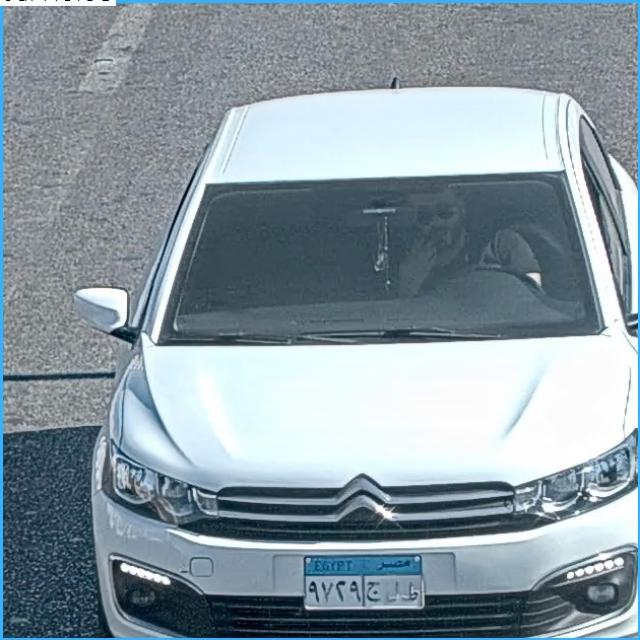windshield: (160, 182, 610, 342)
